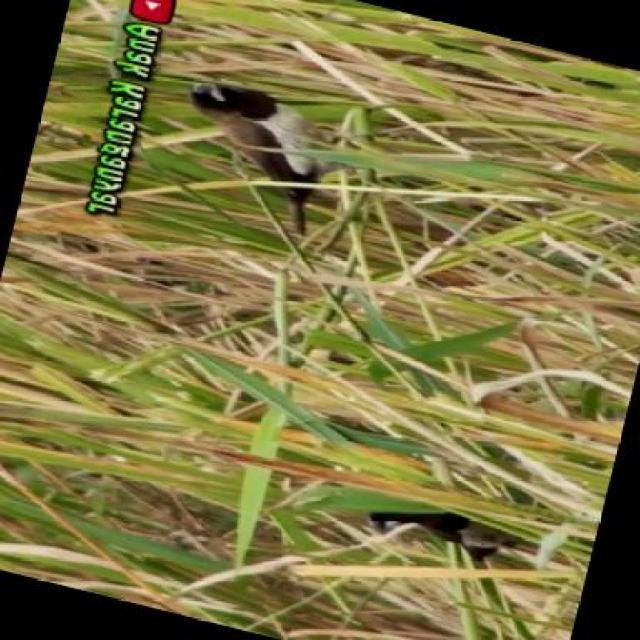Bird: (184, 67, 340, 210)
